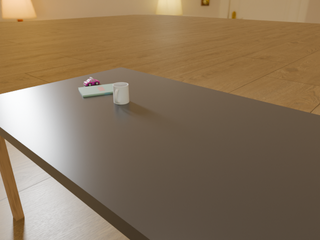book: (79, 84, 113, 97)
cup: (113, 83, 129, 104)
toy_car: (84, 77, 100, 86)
